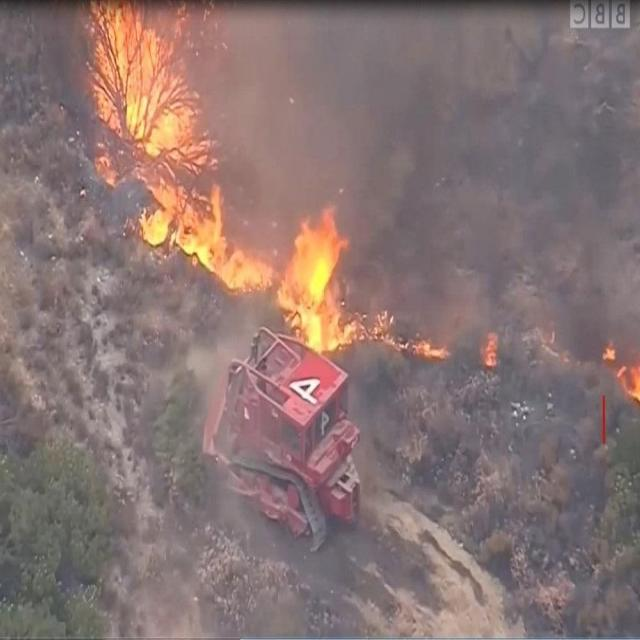Fire: (84, 5, 212, 168), (132, 174, 269, 291), (276, 205, 360, 349), (360, 309, 450, 354), (599, 341, 639, 396), (481, 328, 502, 365)
